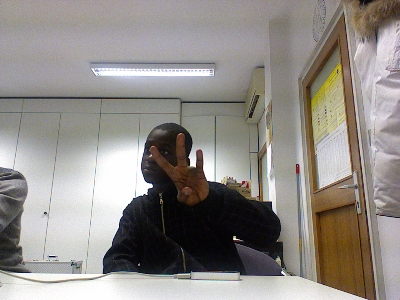观音: (147, 132, 210, 207)
